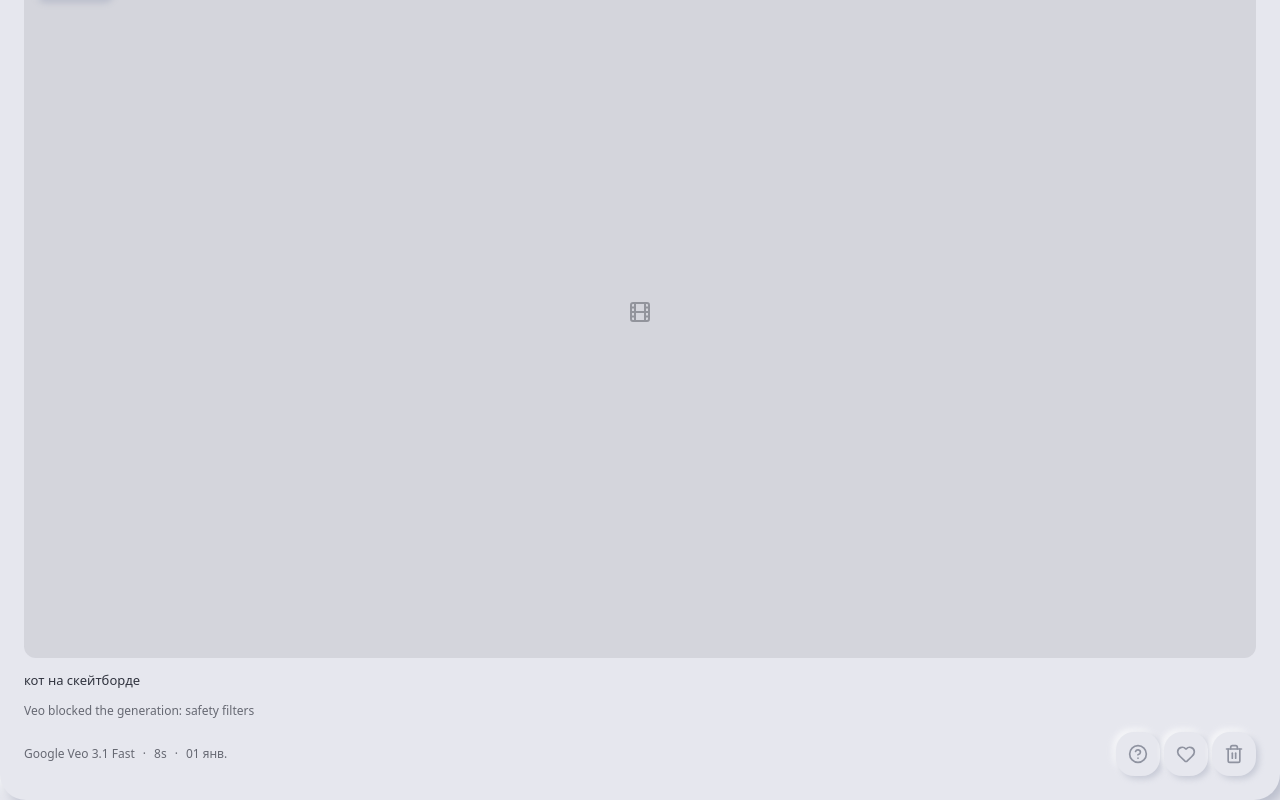
Test: GenerationCard failure explanation › says a retry will not help when the request was blocked
(page scrolled)
Click the button named "Почему произошла ошибка" at (1138, 754), box left=1116, top=732, right=1160, bottom=776
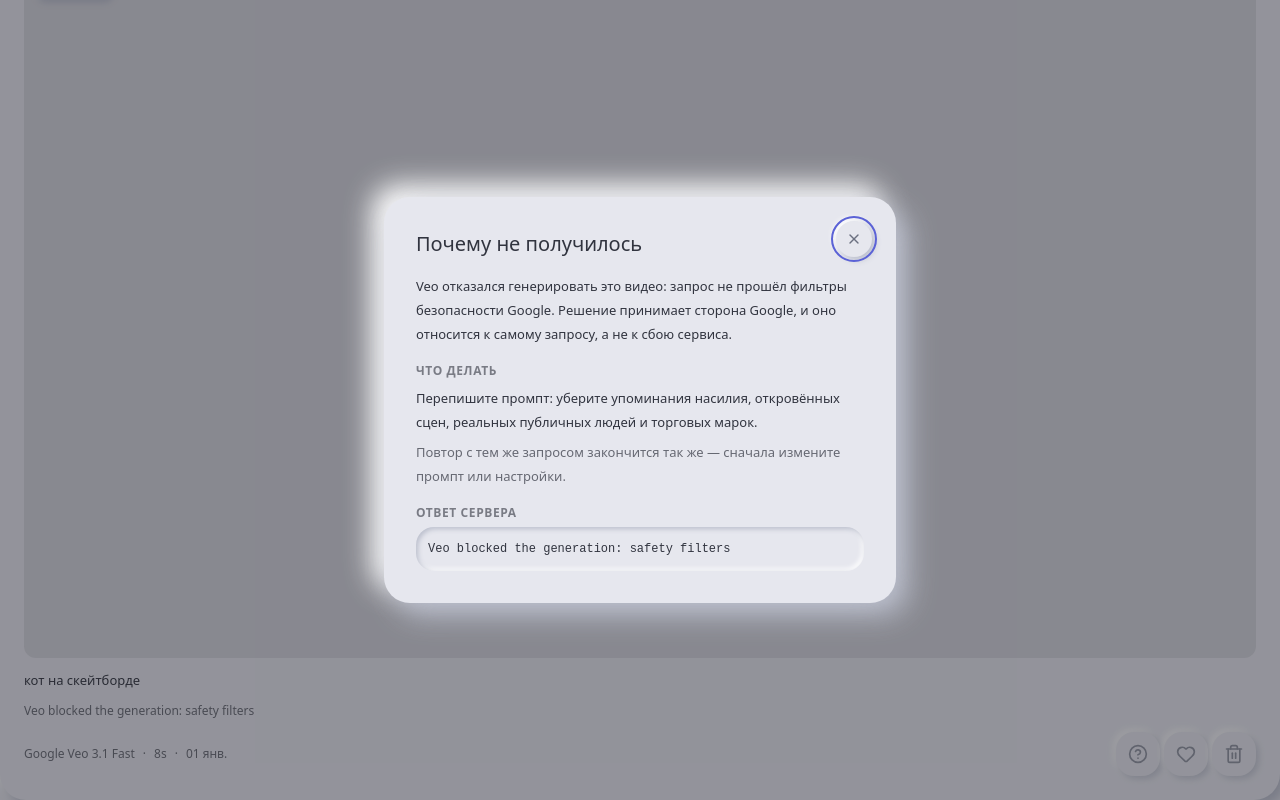
Check: the text "сначала измените промпт" is shown, box left=416, top=443, right=840, bottom=485
